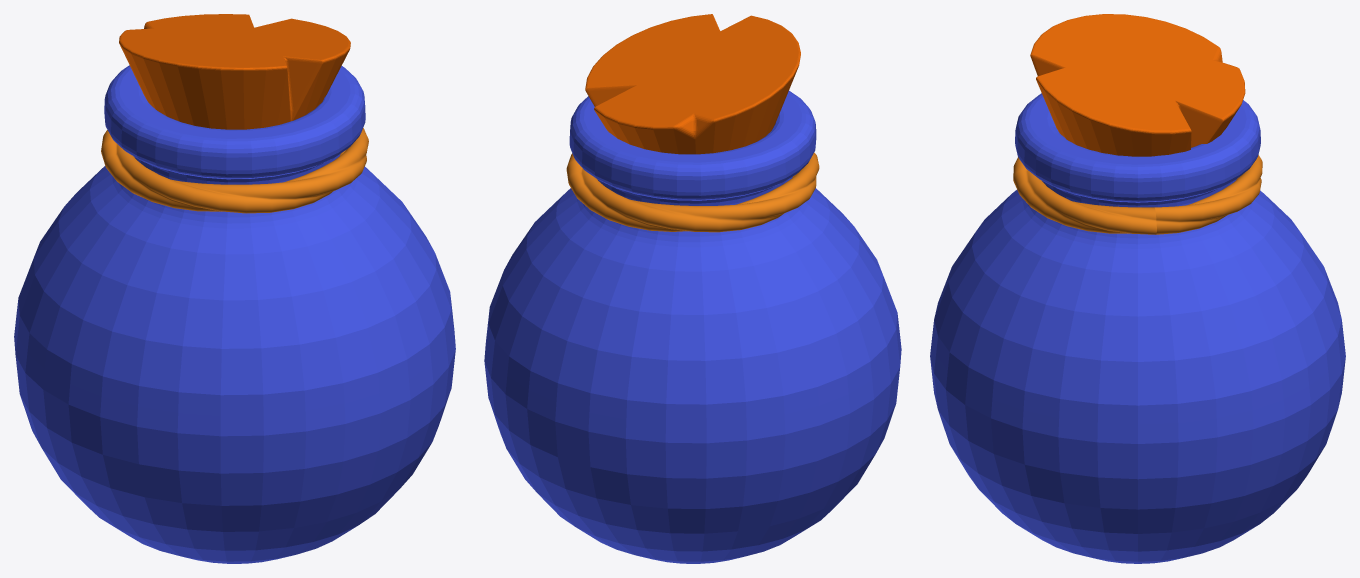
File: Potion.fbx
3 renders of one model, left to right at view 1: azimuth 30°, elevation 25°; view 2: azimuth 150°, elevation 25°; view 3: azimuth 270°, elevation 25°, orthographic. The views are drawn at different scales.
Visible parts, largest first — view 1: Bottle; view 2: Bottle; view 3: Bottle.
Part boxes in pixels (box(x1,y1,x2,y2)): Bottle: box(14, 14, 455, 563); Bottle: box(484, 14, 901, 563); Bottle: box(930, 14, 1345, 563).
Size of the model in its own units: 200 by 261 by 200.
